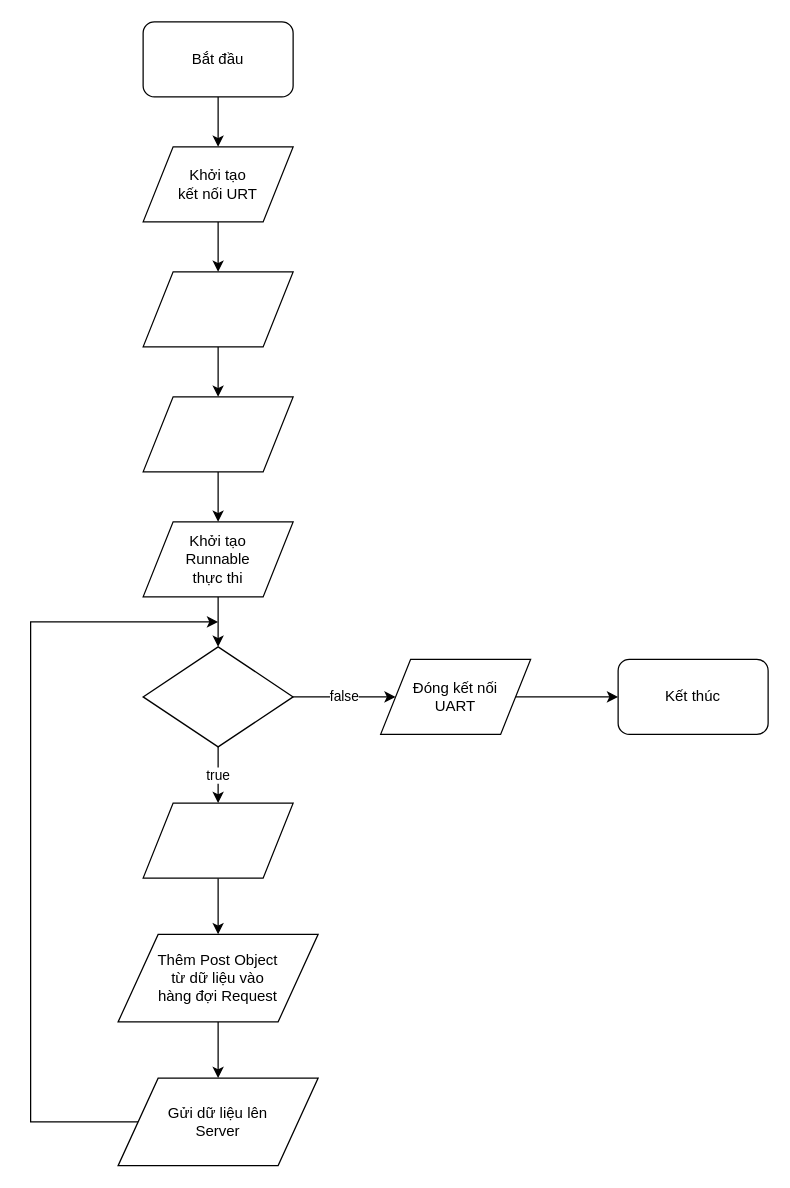
The diagram is 790 pixels wide and 1188 high, and some of its shapes have lost their labels. Each missing label, with the centre of its shape:
"Khởi tạo hàng đợi Request" belongs at point 217,434.
"Khởi tạo kết nối mạng" belongs at point 217,309.
"Nhận dữ liệu từ UART ?" belongs at point 217,696.
"Xử lý dữ liệu" belongs at point 217,840.
